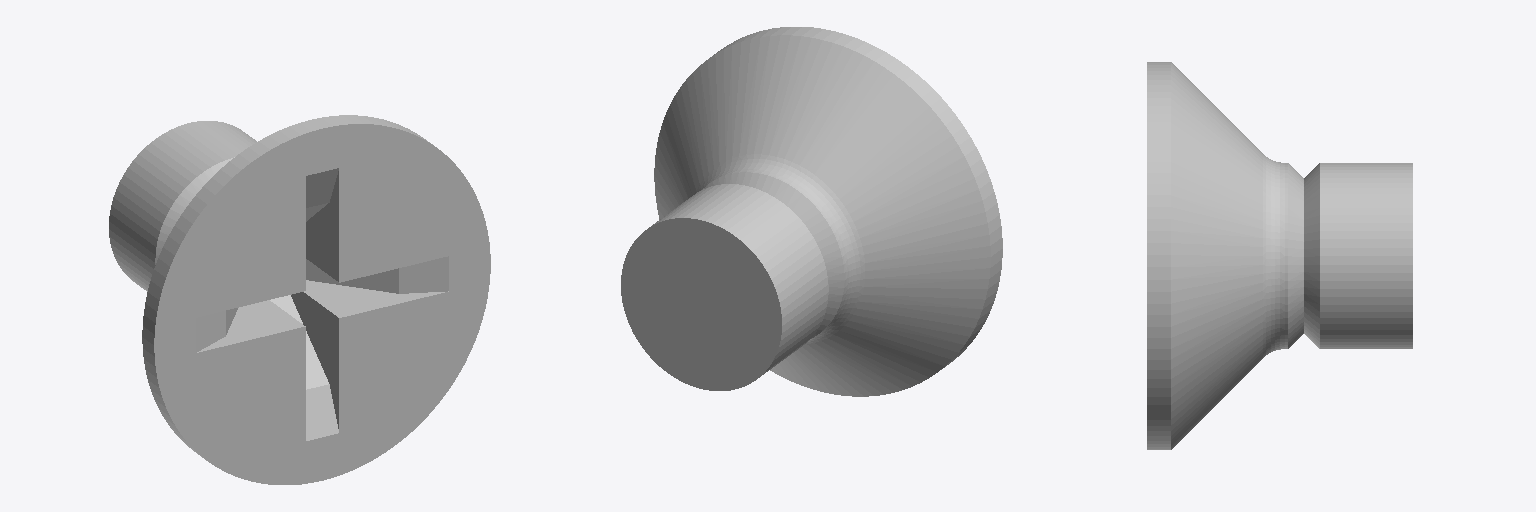
Rendered from case_ISO 7046-2 H - M3.5x5 - 8.8 - H1_3.obj.
The picture shows the model from 3 angles: view 1: azimuth 30°, elevation 25°; view 2: azimuth 150°, elevation 25°; view 3: azimuth 270°, elevation 25°; orthographic projection.
Visible parts, largest first — view 1: Solid1:7; view 2: Solid1:7; view 3: Solid1:7.
Part boxes in pixels (bbox=[...]): Solid1:7: bbox=[109, 115, 490, 484]; Solid1:7: bbox=[621, 27, 1002, 396]; Solid1:7: bbox=[1147, 62, 1412, 449].
Size of the model in its own units: 0.0073 by 0.0073 by 0.005.